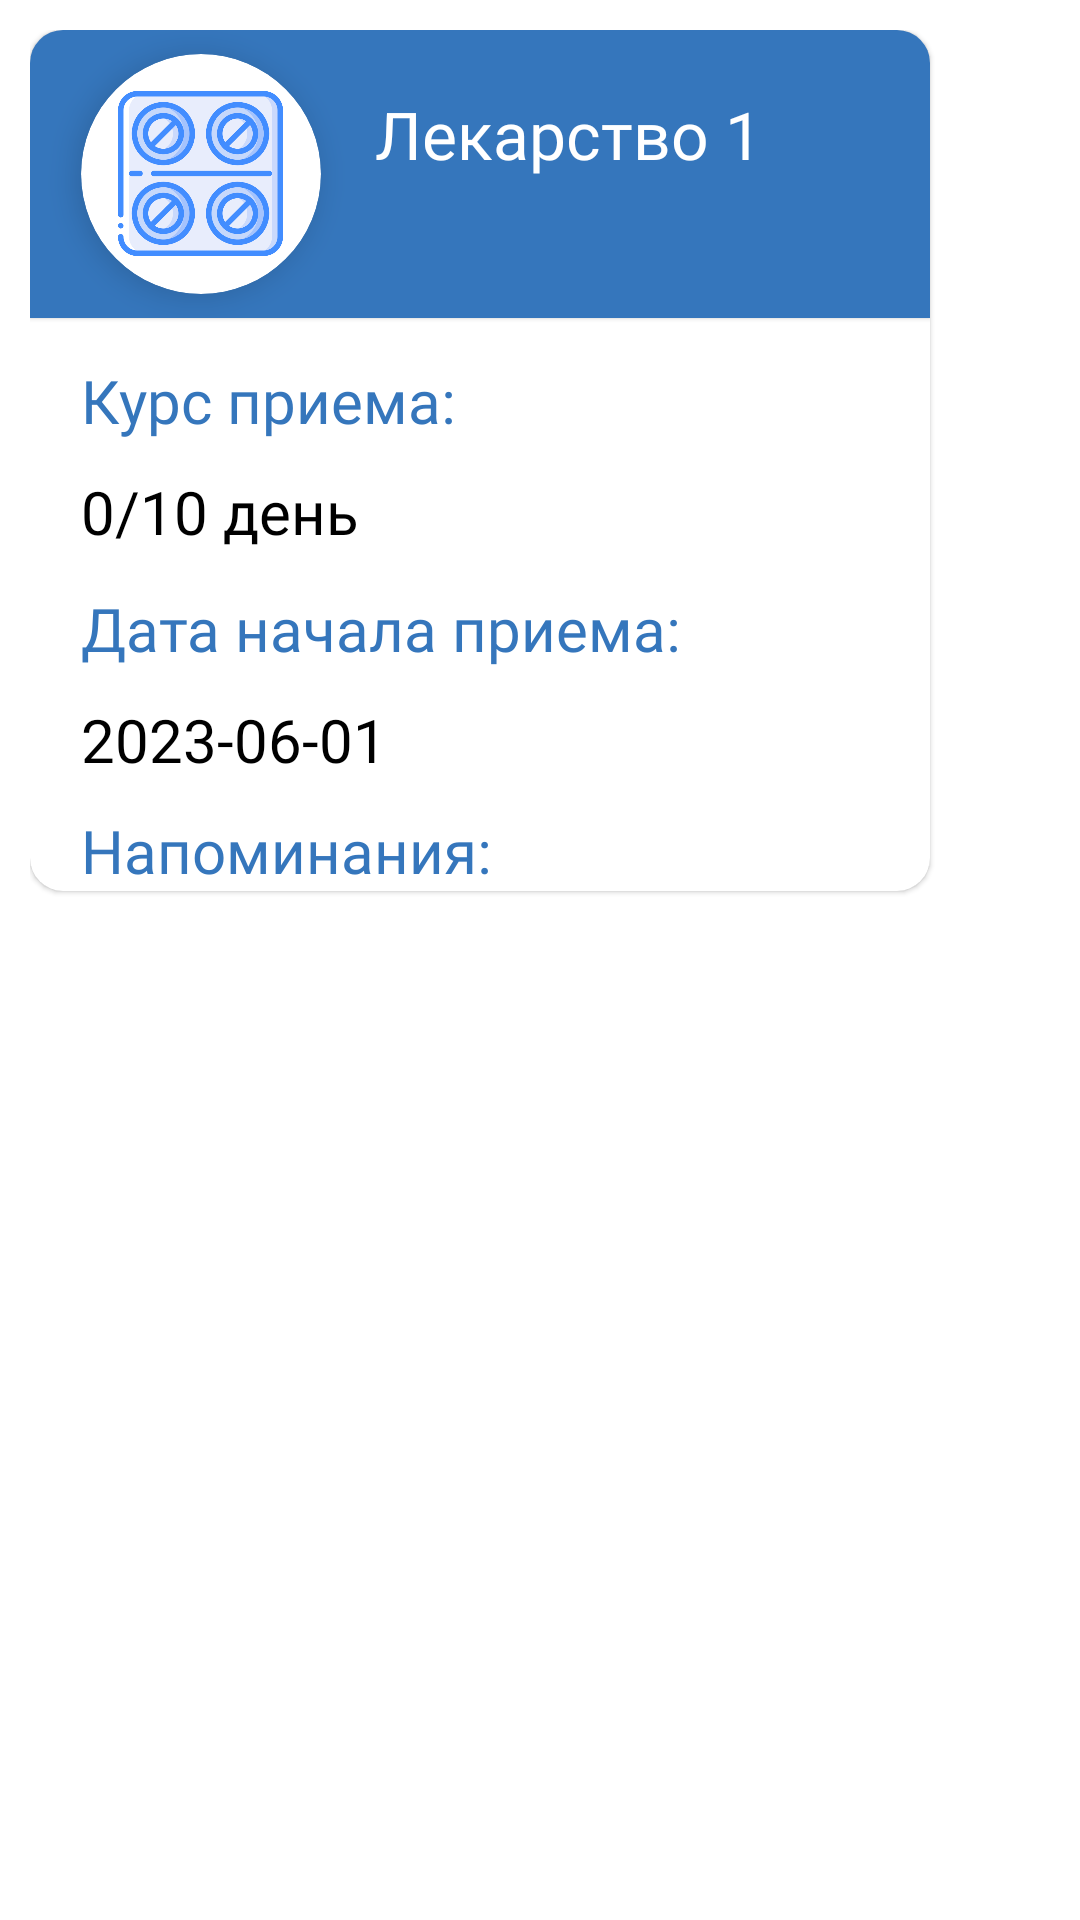

Screen size 1080w x 1920h. Icon name, then its box in pixels as bbox=[x1, y1, x2, y2]:
pill: bbox=[118, 91, 283, 256]
